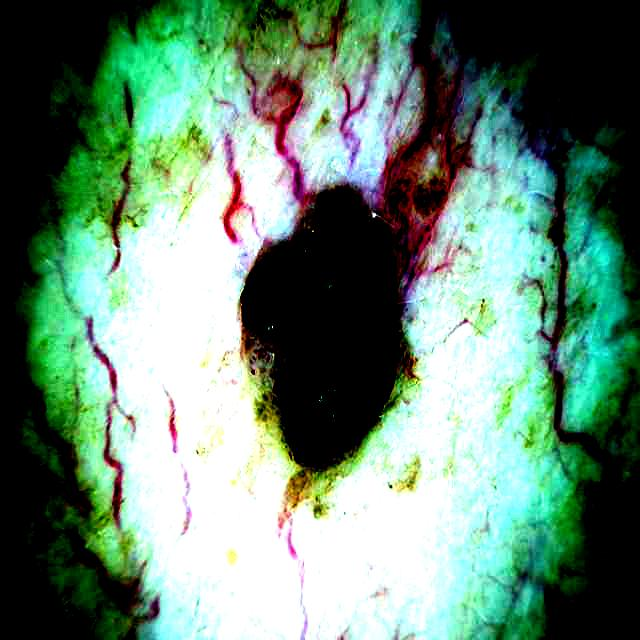BKL: (242, 189, 396, 464)
